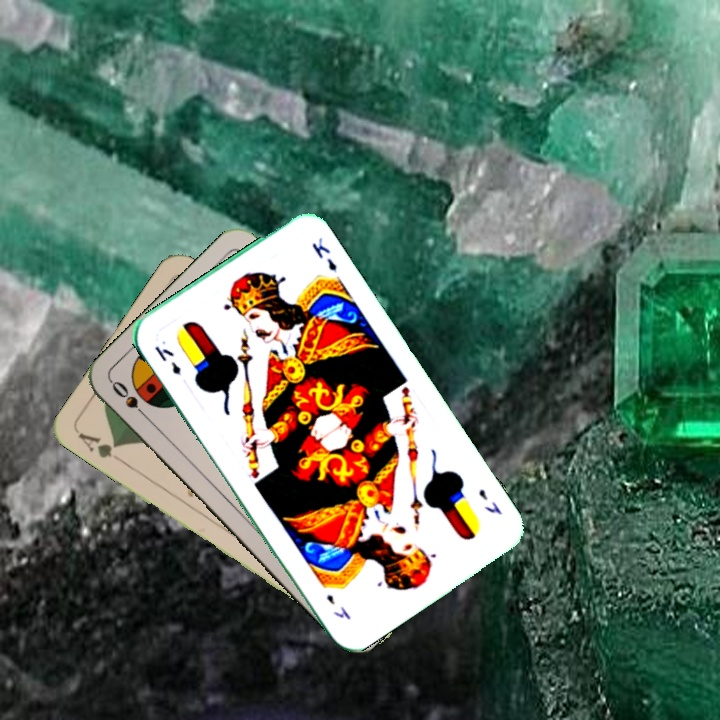EK: (150, 341, 184, 378), (474, 484, 504, 518)
GA: (74, 428, 127, 464)
SO: (107, 376, 153, 424)
